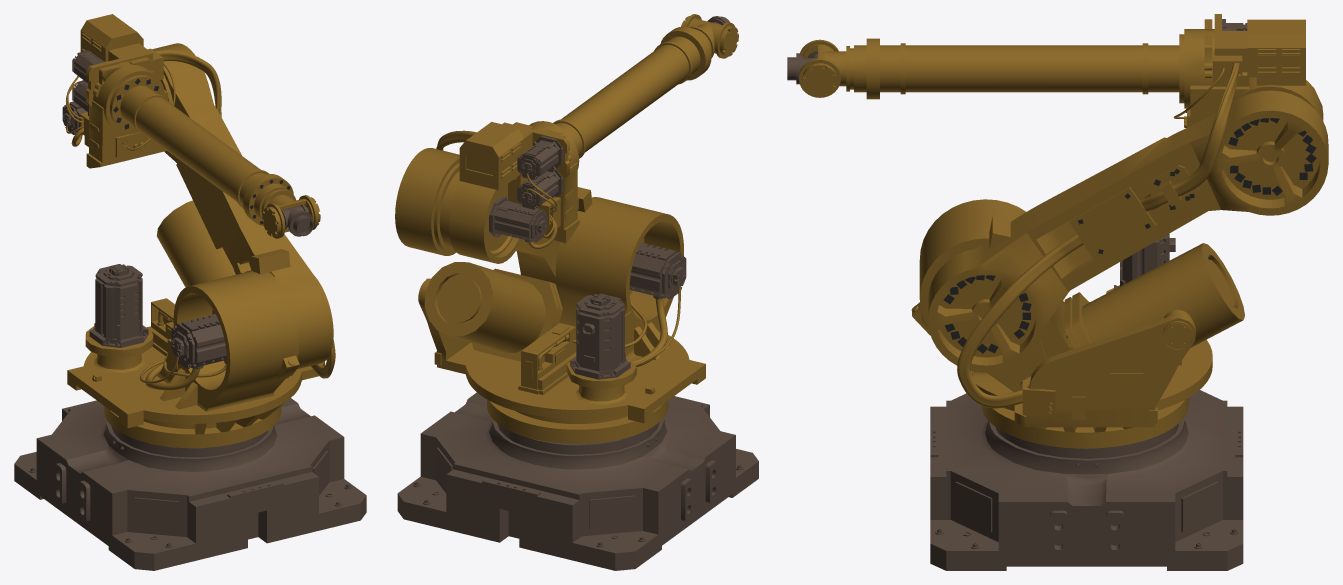
The model's file is robot_base_v3.glb.
3 renders of one model, left to right at view 1: azimuth 30°, elevation 25°; view 2: azimuth 150°, elevation 25°; view 3: azimuth 270°, elevation 25°, orthographic. The views are drawn at different scales.
Visible parts, largest first — view 1: Robot_Body, engine2_low_Engine_0, engine_low_Engine_0_NEW_12_14, engine3_low_Engine_0_NEW_12_32, engine5_low_Engine_0_NEW_12_30; view 2: Robot_Body, engine2_low_Engine_0, engine_low_Engine_0_NEW_12_14, engine5_low_Engine_0_NEW_12_30, engine3_low_Engine_0_NEW_12_32, engine4_low_Engine_0_NEW_12_31; view 3: Robot_Body, screw6_low_arm_0_BAKED_4, engine2_low_Engine_0.
Part boxes in pixels (<box>): Robot_Body: <box>14,14,366,570</box>; engine2_low_Engine_0: <box>89,264,148,347</box>; engine_low_Engine_0_NEW_12_14: <box>171,313,226,369</box>; engine3_low_Engine_0_NEW_12_32: <box>72,50,108,82</box>; engine5_low_Engine_0_NEW_12_30: <box>62,101,87,134</box>; Robot_Body: <box>395,14,758,570</box>; engine2_low_Engine_0: <box>570,293,630,379</box>; engine_low_Engine_0_NEW_12_14: <box>629,242,686,299</box>; engine5_low_Engine_0_NEW_12_30: <box>489,196,547,242</box>; engine3_low_Engine_0_NEW_12_32: <box>517,135,563,179</box>; engine4_low_Engine_0_NEW_12_31: <box>517,168,563,209</box>; Robot_Body: <box>787,14,1328,570</box>; screw6_low_arm_0_BAKED_4: <box>943,118,1316,353</box>; engine2_low_Engine_0: <box>1114,233,1175,289</box>.
Size of the model in its own units: 0.9197 by 1.5 by 1.53.
Materials: 3 (3 with a texture image).
